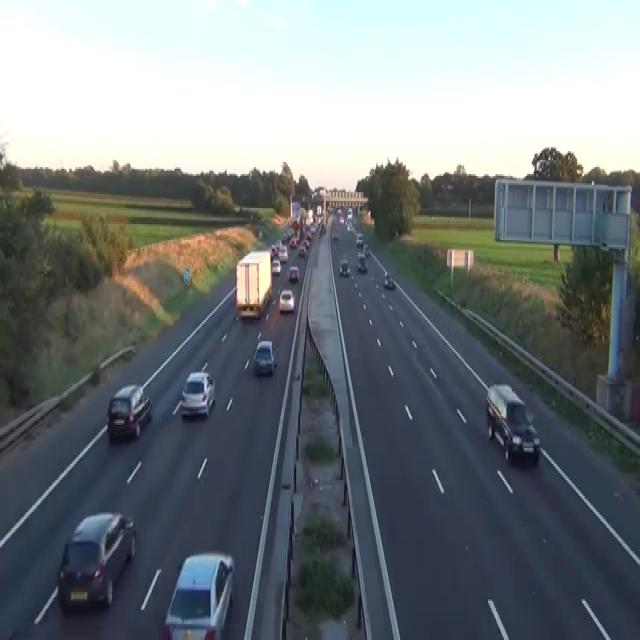Car: (57, 510, 136, 612), (162, 551, 234, 638), (485, 382, 540, 464), (106, 384, 152, 441), (180, 370, 215, 418), (252, 340, 277, 375), (279, 288, 294, 311), (339, 260, 350, 276), (288, 265, 299, 281), (384, 272, 395, 288), (271, 258, 281, 274), (278, 246, 288, 262), (282, 229, 293, 242), (357, 260, 367, 272), (355, 233, 363, 245), (357, 251, 366, 261), (301, 238, 309, 249), (270, 244, 277, 256), (289, 237, 297, 247), (320, 222, 326, 235), (298, 245, 305, 256), (309, 222, 316, 233), (363, 244, 369, 256), (233, 203, 240, 213), (292, 218, 299, 228), (347, 206, 352, 219), (346, 222, 353, 231), (327, 204, 334, 213), (305, 231, 312, 240), (331, 230, 338, 238), (446, 183, 454, 190), (336, 206, 342, 215), (276, 238, 282, 247), (258, 228, 262, 238), (339, 215, 344, 222)
Truck: (235, 249, 272, 318)
